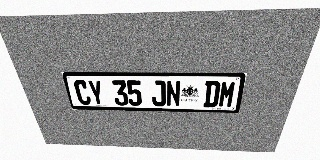3: (112, 80, 129, 106)
5: (126, 80, 142, 106)
C: (73, 80, 92, 105)
D: (203, 81, 221, 107)
J: (151, 80, 166, 106)
M: (218, 81, 237, 108)
N: (166, 81, 181, 107)
Y: (87, 80, 105, 105)
